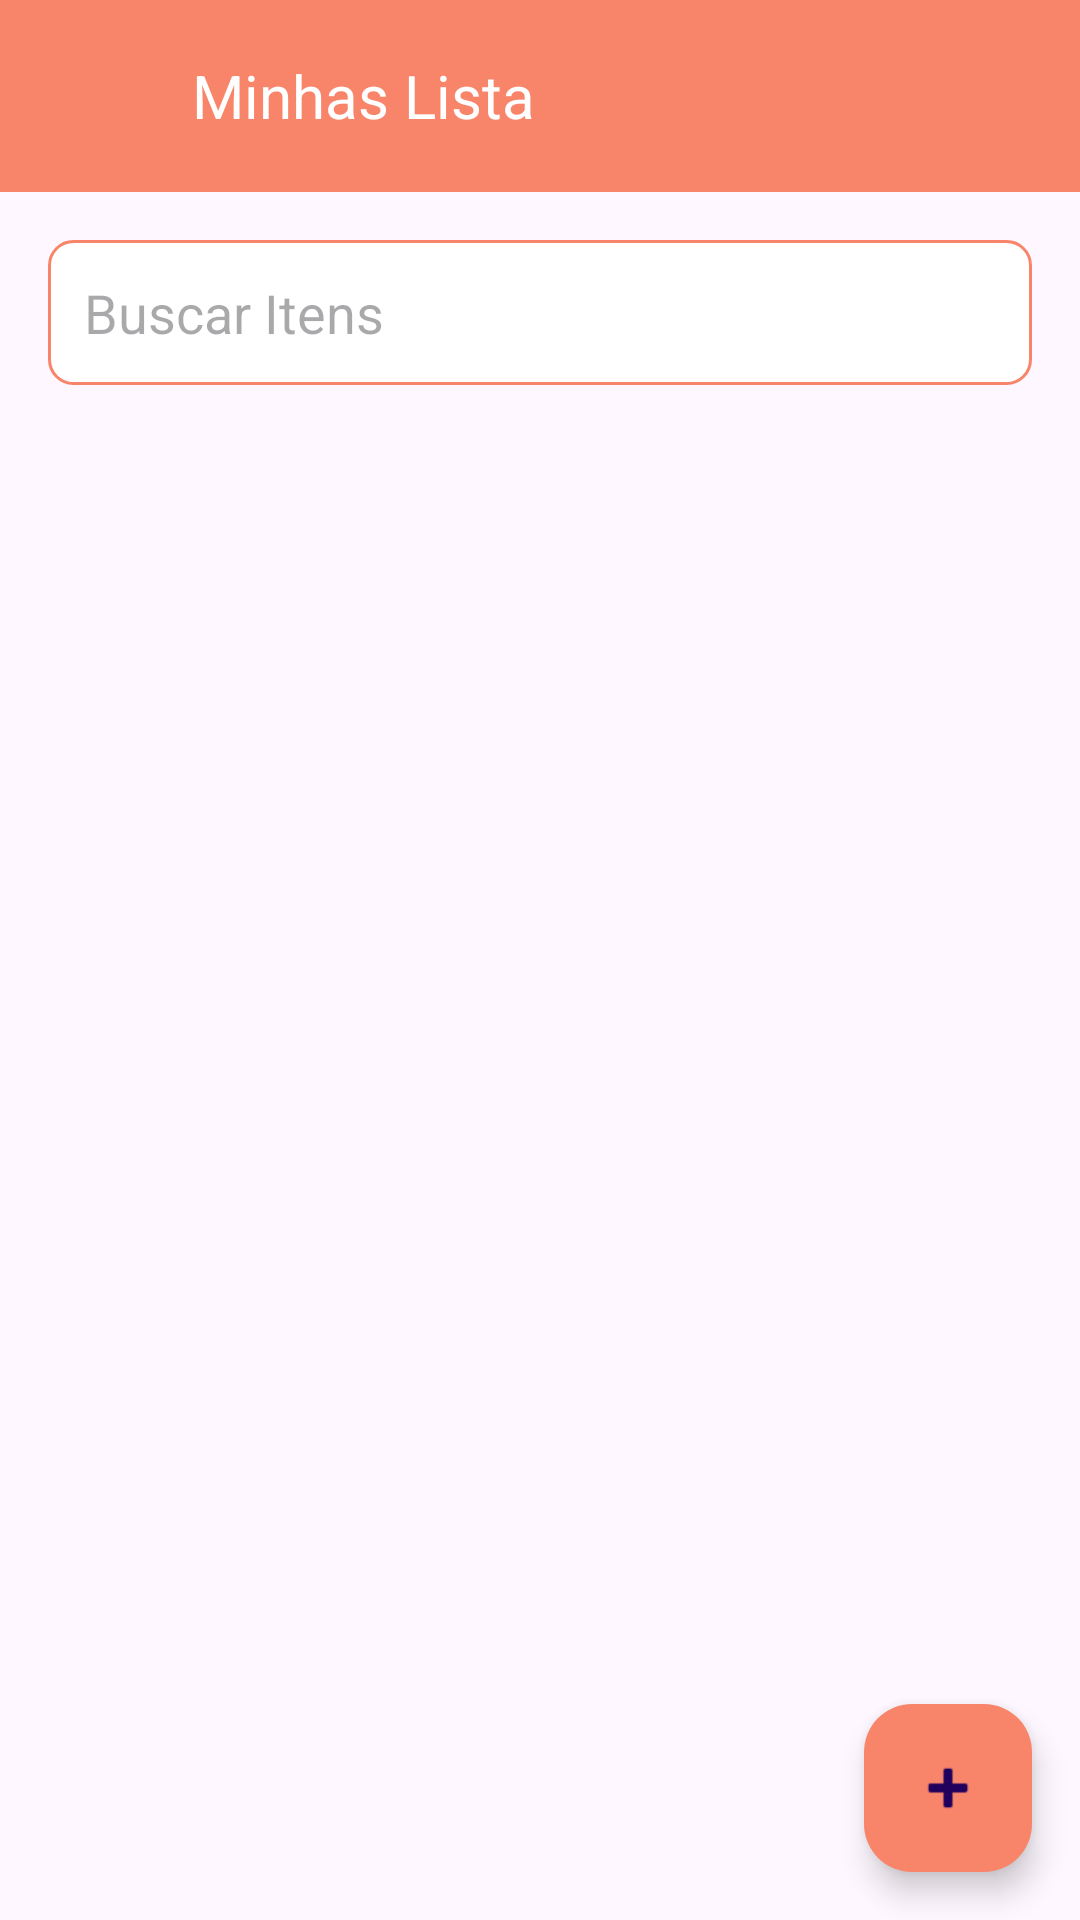

Icons on this 1080px×1920px Android screen, each with its box as {"x1": x1, "y1": y1, "x2": x2, "y2": y2}:
Adicionar Item: {"x1": 864, "y1": 1704, "x2": 1032, "y2": 1872}
